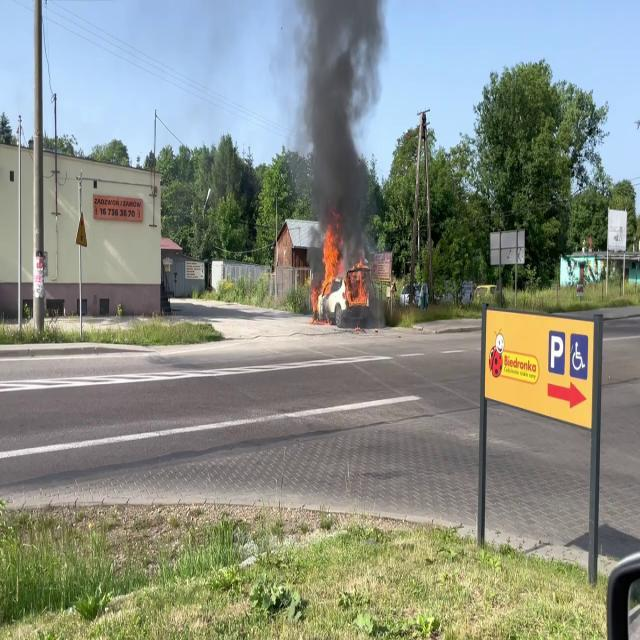Fire: (312, 224, 368, 316)
Smoke: (291, 0, 388, 244)
